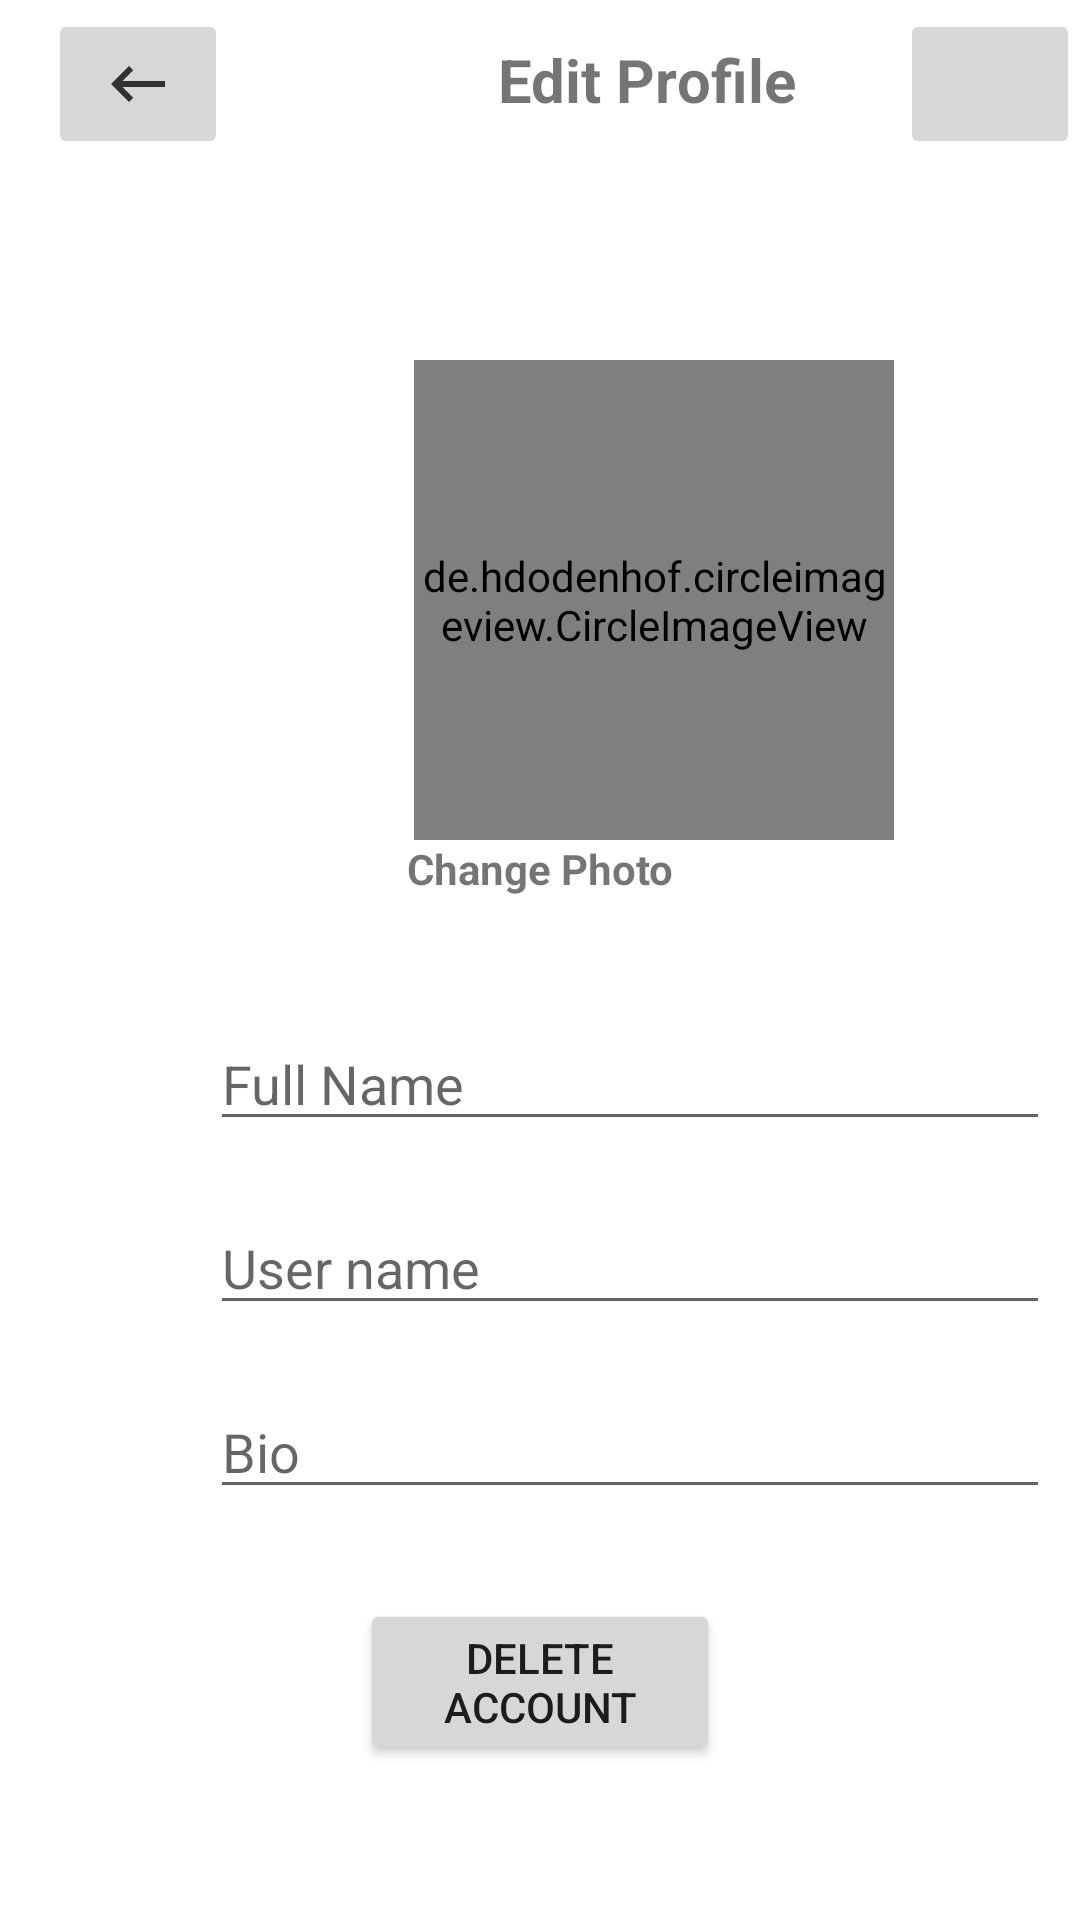

Locate icon controls on the screen. Image size 1080×1920, boxes as detection(x1, y1, x2, y2).
back: detection(60, 27, 216, 141)
